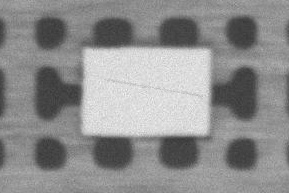DIE_CRACK: (156, 53, 289, 64)
